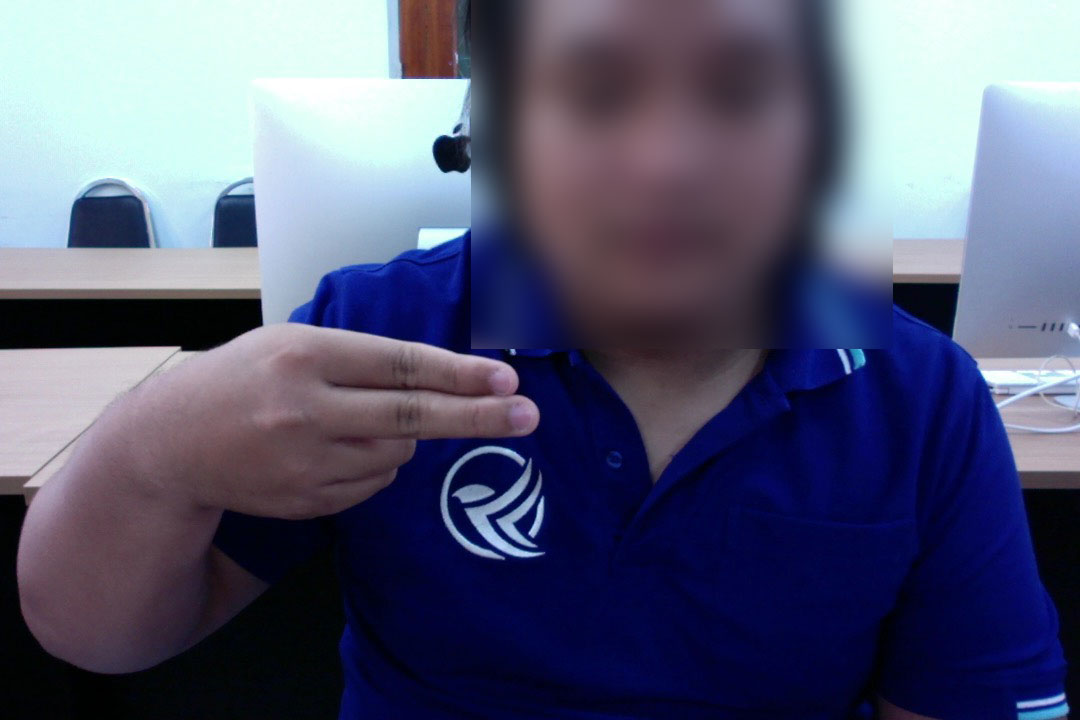hor: (122, 306, 556, 527)
